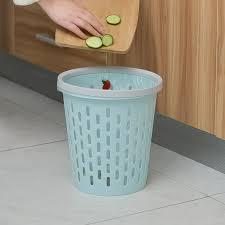dustbin: (56, 65, 161, 197)
